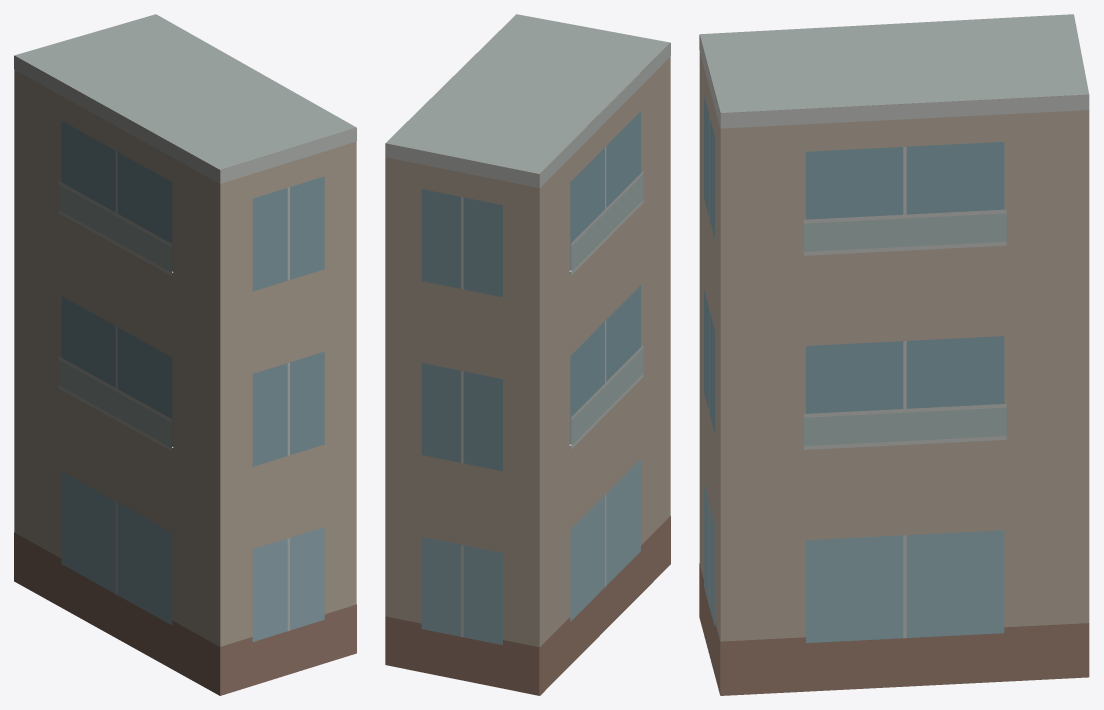
The model's file is survey-upis-32966261.glb.
The picture shows the model from 3 angles, left to right: view 1: azimuth 30°, elevation 25°; view 2: azimuth 150°, elevation 25°; view 3: azimuth 270°, elevation 25°; orthographic projection. The views are drawn at different scales.
Visible parts, largest first — view 1: survey-upis-32966261.tmp; view 2: survey-upis-32966261.tmp; view 3: survey-upis-32966261.tmp.
Boxes of the visible parts, x1=… form: survey-upis-32966261.tmp: x1=14, y1=14, x2=356, y2=695; survey-upis-32966261.tmp: x1=385, y1=14, x2=670, y2=695; survey-upis-32966261.tmp: x1=699, y1=14, x2=1089, y2=695.
Size of the model in its own units: 3.34 by 9.15 by 5.56.
